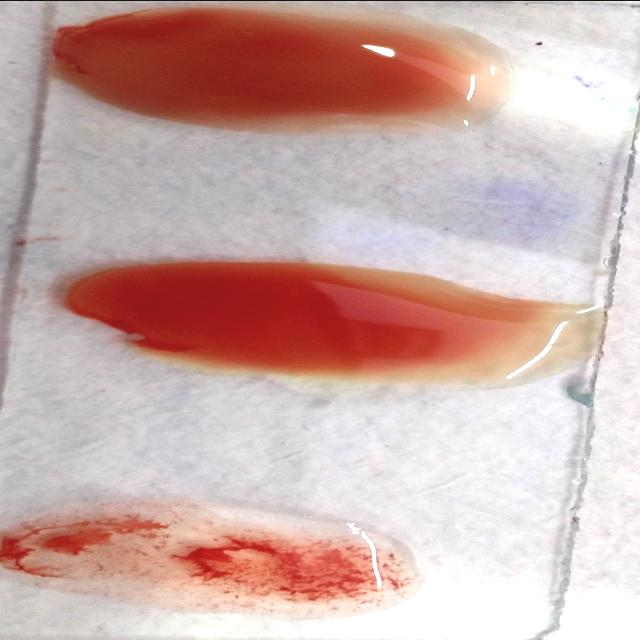D: (5, 506, 383, 612)
